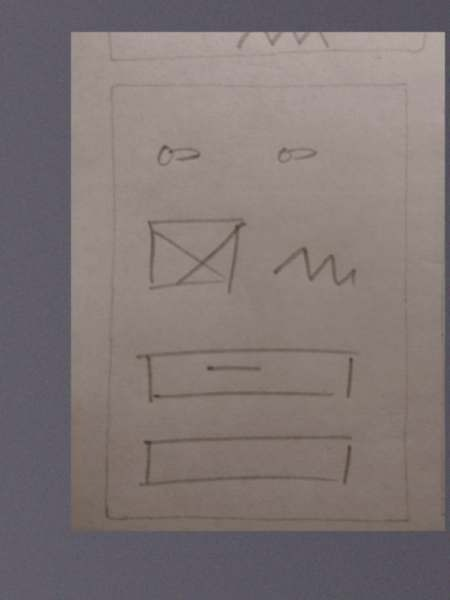button: (131, 345, 369, 408)
image: (138, 213, 253, 297)
switch: (148, 140, 212, 169), (268, 139, 331, 168)
text: (267, 237, 369, 294)
text_input: (130, 427, 368, 491)
